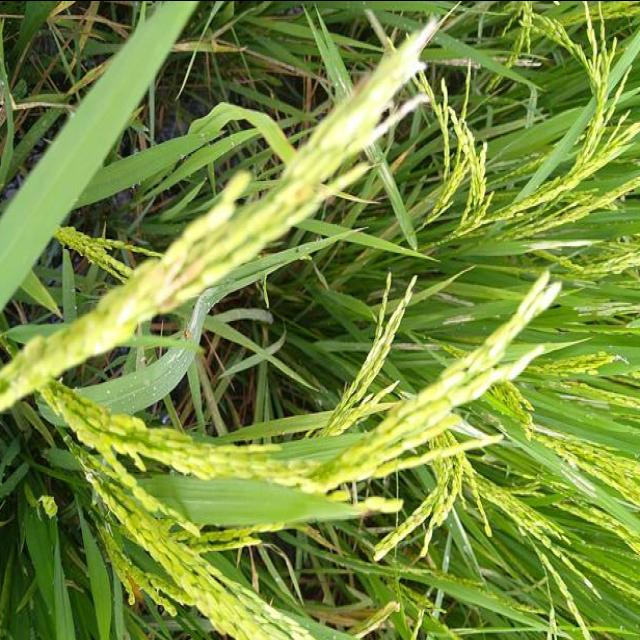Panicle Blight: (165, 259, 204, 291), (158, 296, 182, 312), (293, 187, 310, 202)
